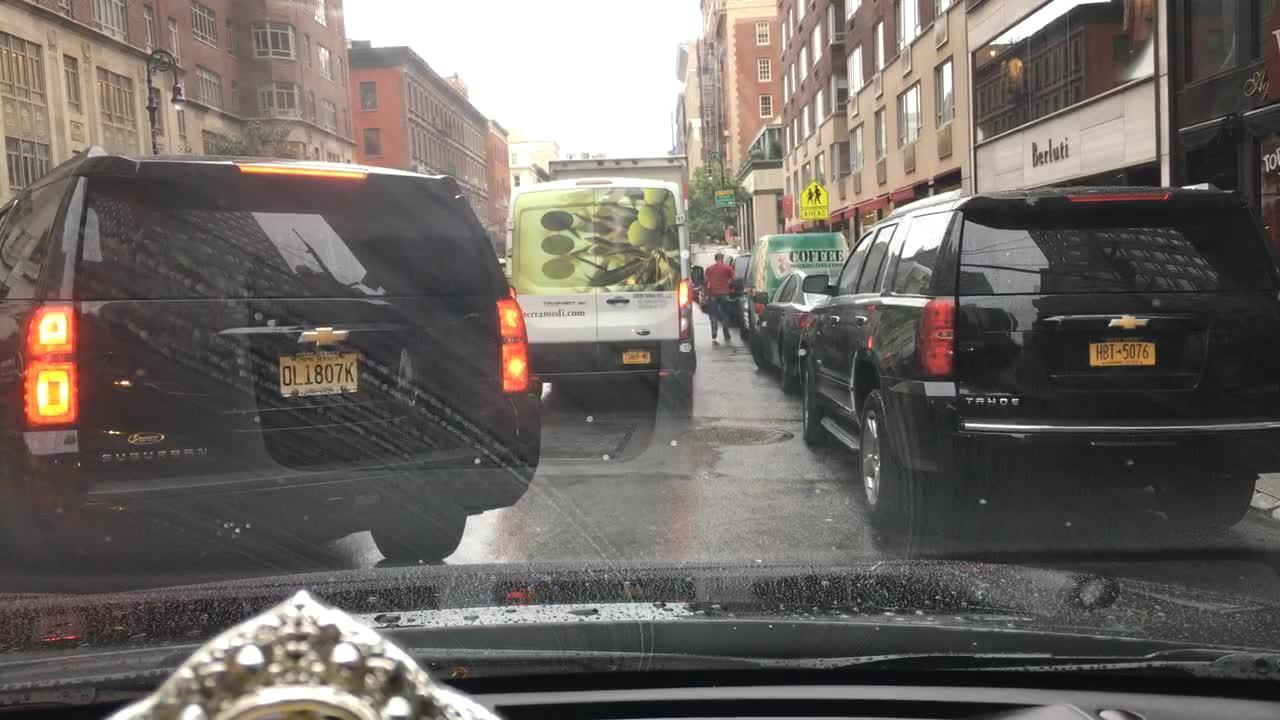chevrolet: (292, 317, 359, 357), (1100, 312, 1154, 337)
